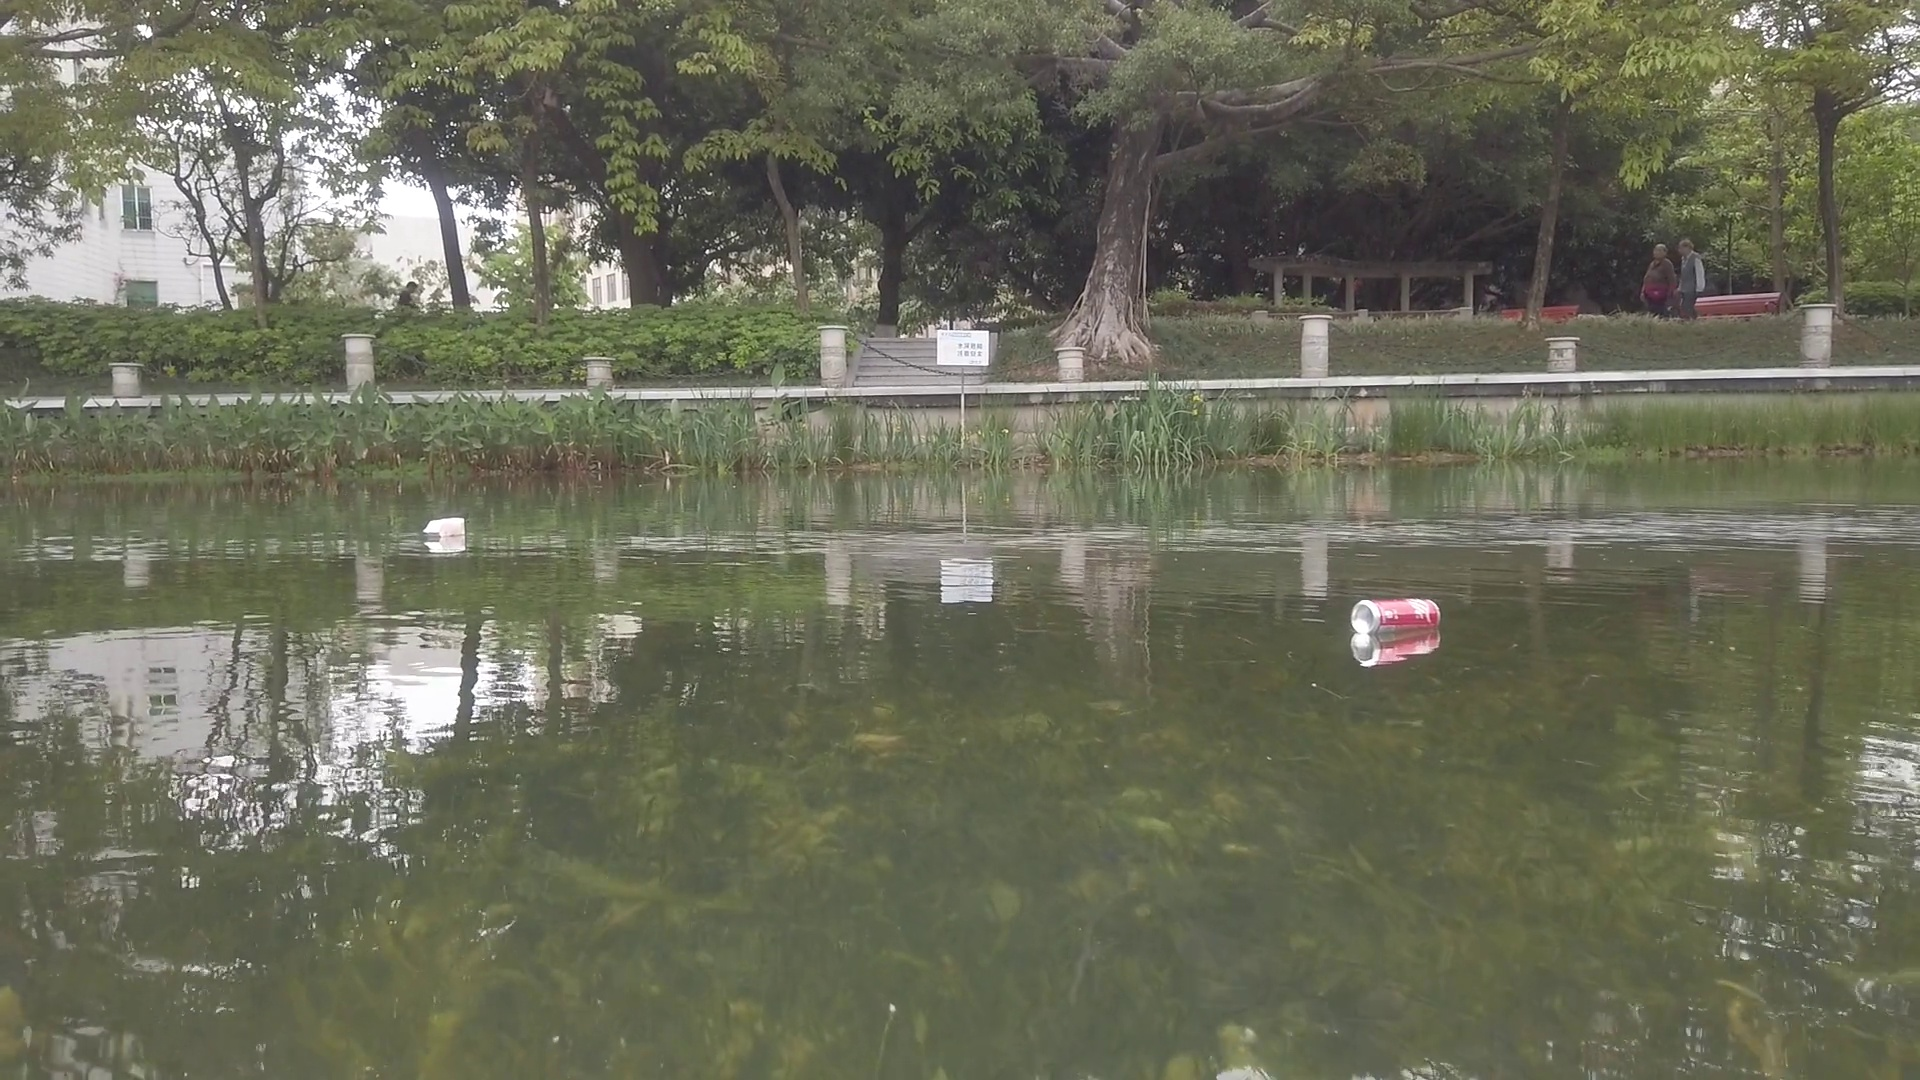bottle: (1346, 595, 1447, 634)
carton: (423, 516, 469, 541)
